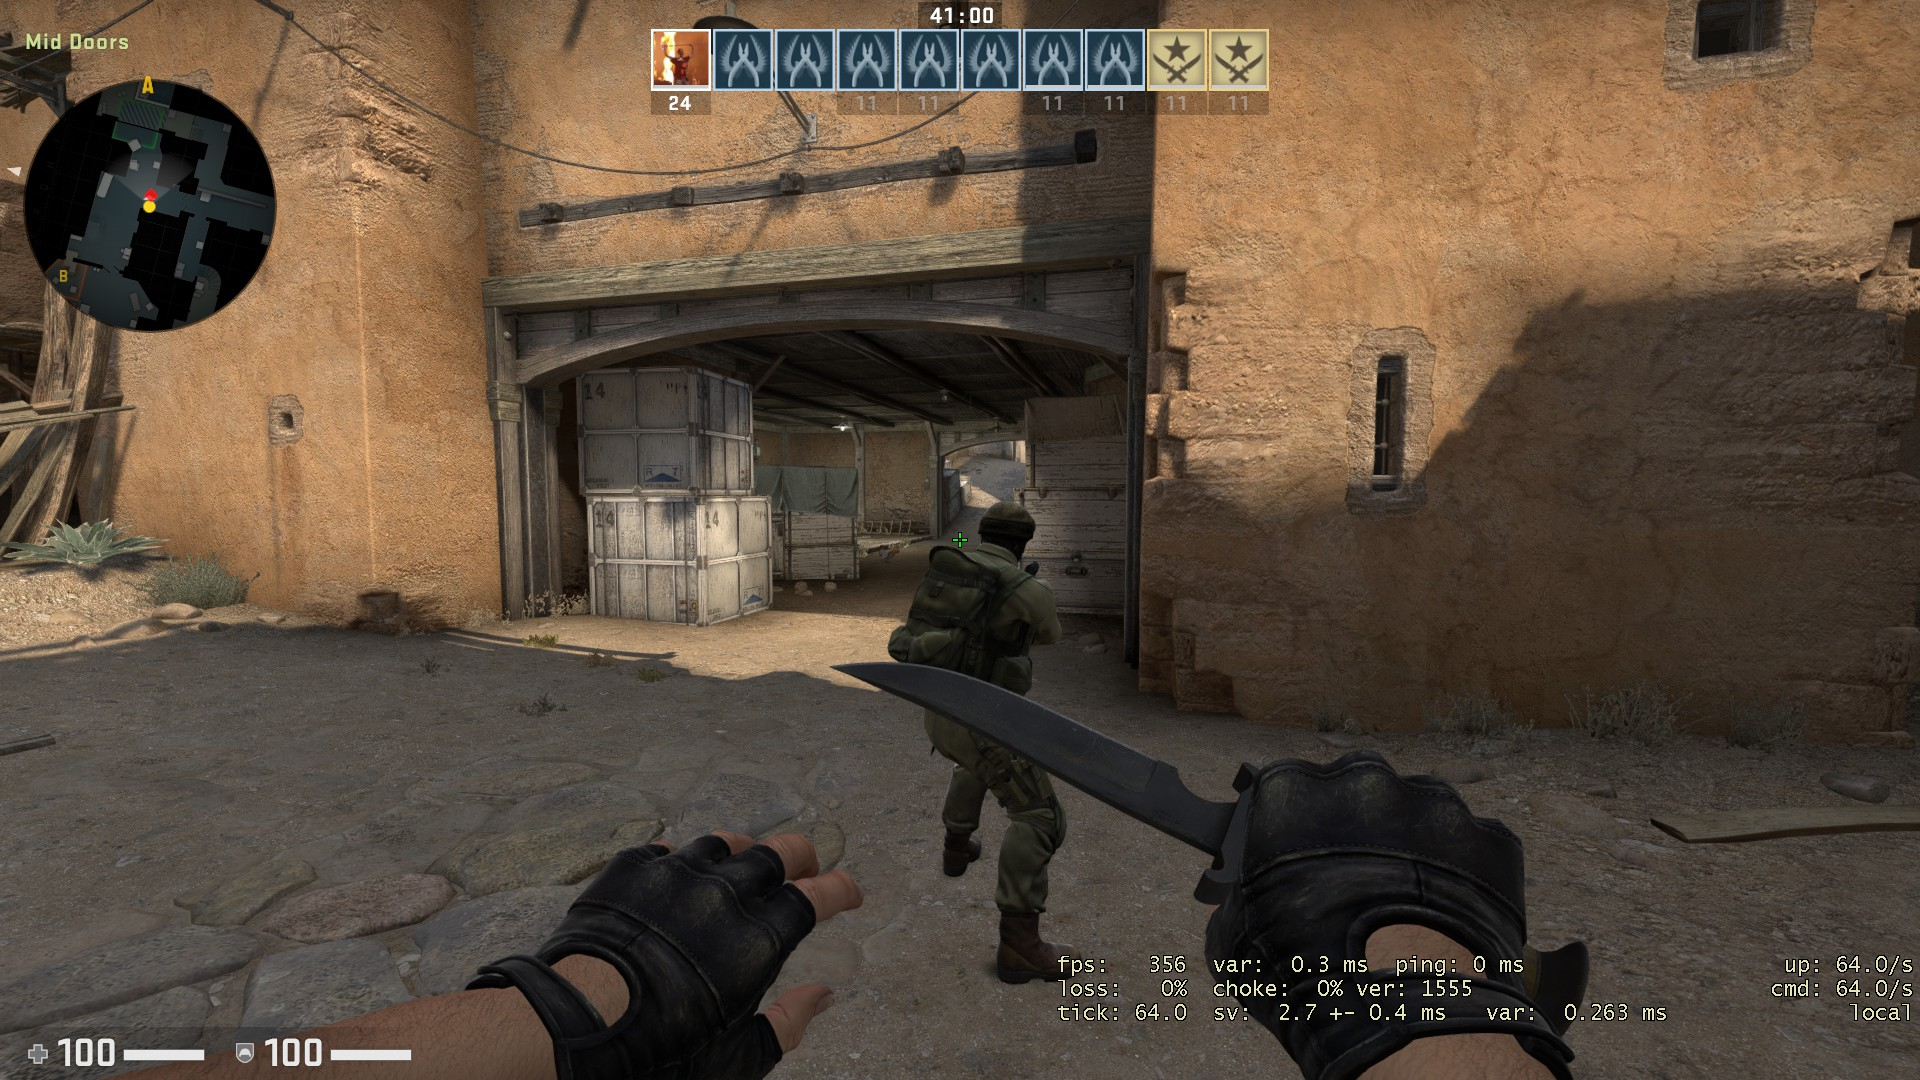player: (881, 494, 1089, 989)
